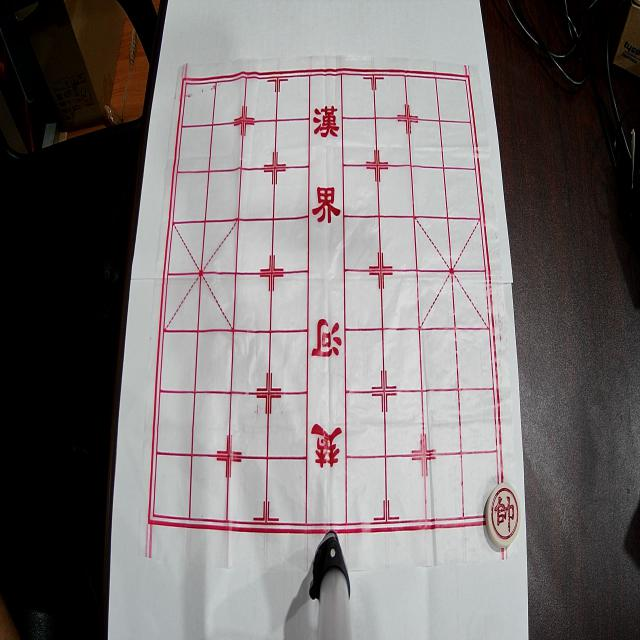red-general: (486, 482, 520, 548)
